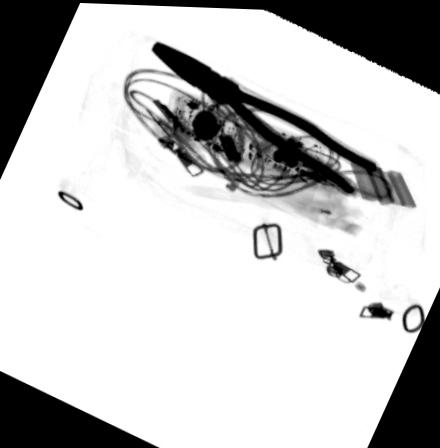Pliers: (149, 37, 380, 193)
